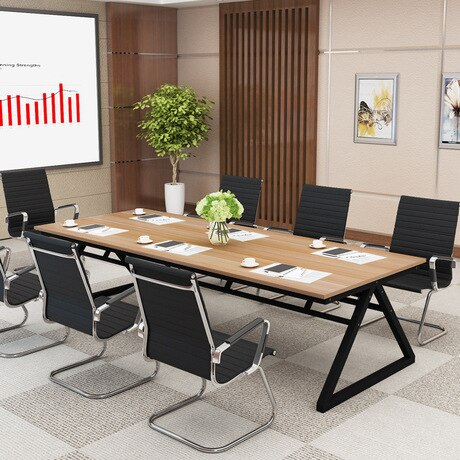conference_table: (35, 207, 424, 413)
